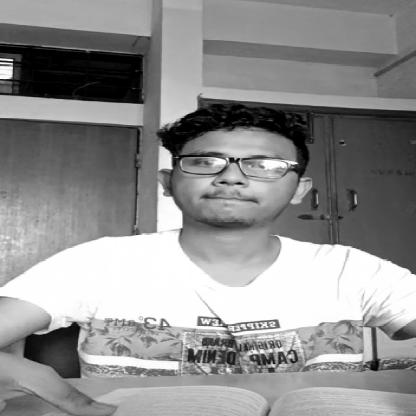Normal: (154, 107, 310, 227)
